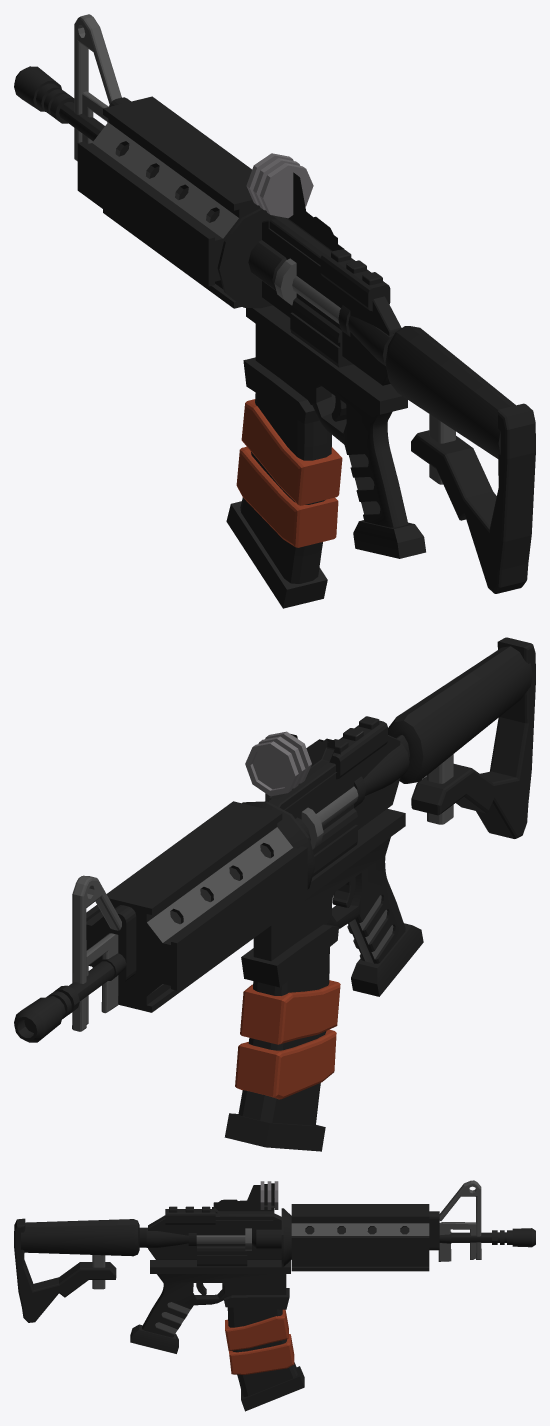
The model's file is Gun01.glb.
3 renders of one model, top to bottom at view 1: azimuth 30°, elevation 25°; view 2: azimuth 150°, elevation 25°; view 3: azimuth 270°, elevation 25°, orthographic. The views are drawn at different scales.
Parts seen in each view (by area): view 1: Cylinder; view 2: Cylinder; view 3: Cylinder.
Boxes of the visible parts, x1,y1,x2,y2 form: Cylinder: [14, 14, 535, 608]; Cylinder: [14, 637, 535, 1151]; Cylinder: [14, 1180, 535, 1411].
Size of the model in its own units: 0.3949 by 1.62 by 3.41.
4 materials, 4 textured.
